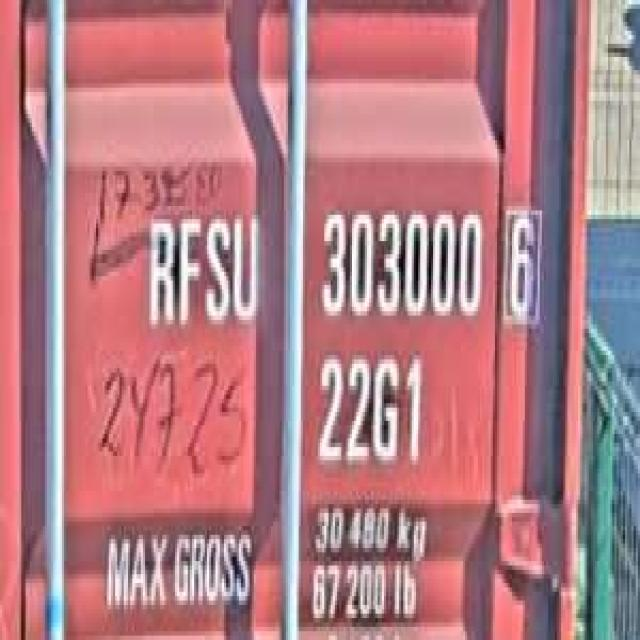dv: (499, 188, 546, 329)
owner: (139, 202, 262, 338)
serial: (312, 193, 486, 329)
size: (312, 342, 426, 478)
